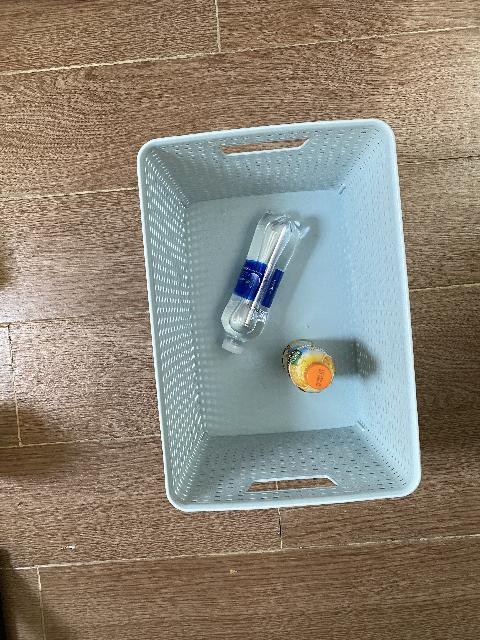aquafina: (221, 209, 302, 355)
cart: (136, 119, 423, 516)
teppy_orange_juice: (282, 339, 336, 393)
